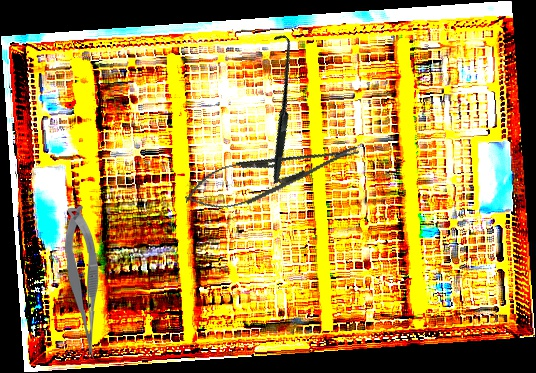Hook Surgical: (201, 31, 355, 184)
Micro Scissor: (63, 204, 101, 360)
Needle Holder: (179, 129, 365, 221)
